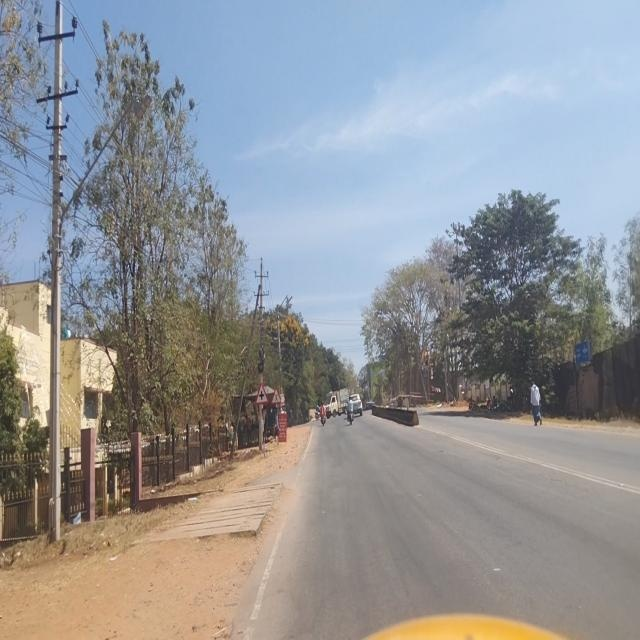bien_nguy_hiem: (255, 382, 269, 405)
